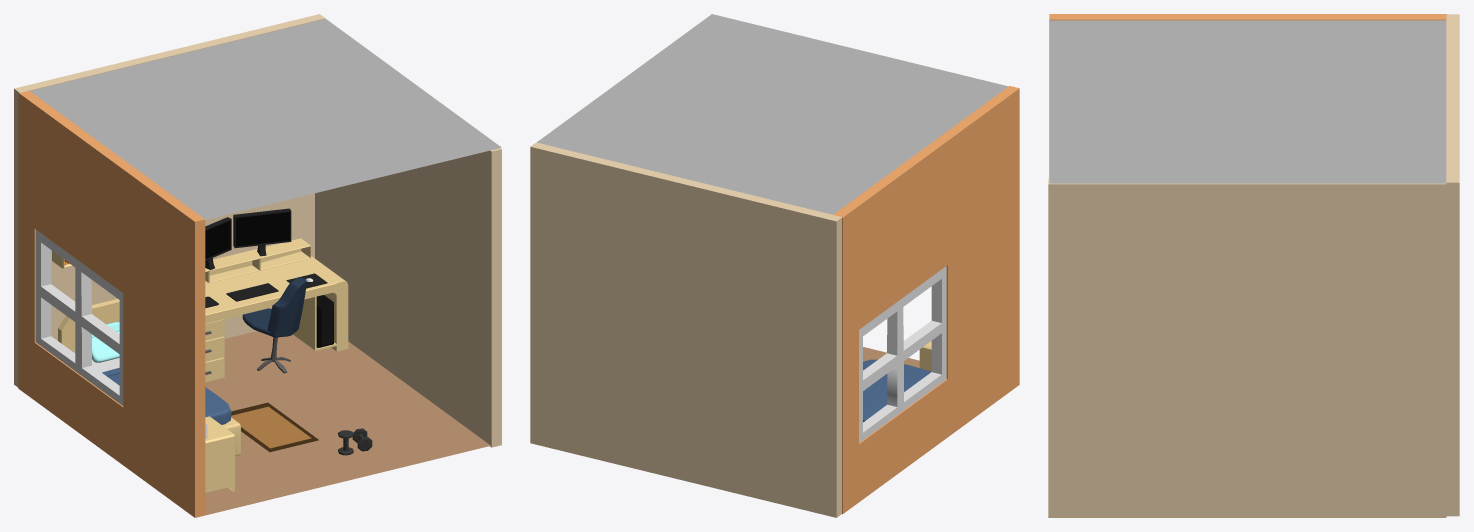
3 renders of one model, left to right at view 1: azimuth 30°, elevation 25°; view 2: azimuth 150°, elevation 25°; view 3: azimuth 270°, elevation 25°, orthographic. The views are drawn at different scales.
Visible parts, largest first — view 1: pCube201; view 2: pCube201; view 3: pCube201.
Part boxes in pixels (x1,y1,x2,y2): pCube201: (14, 14, 501, 517); pCube201: (530, 14, 1019, 517); pCube201: (1048, 14, 1459, 517).
Bounding box in the file's own units: 30.12 × 27.9 × 31.
